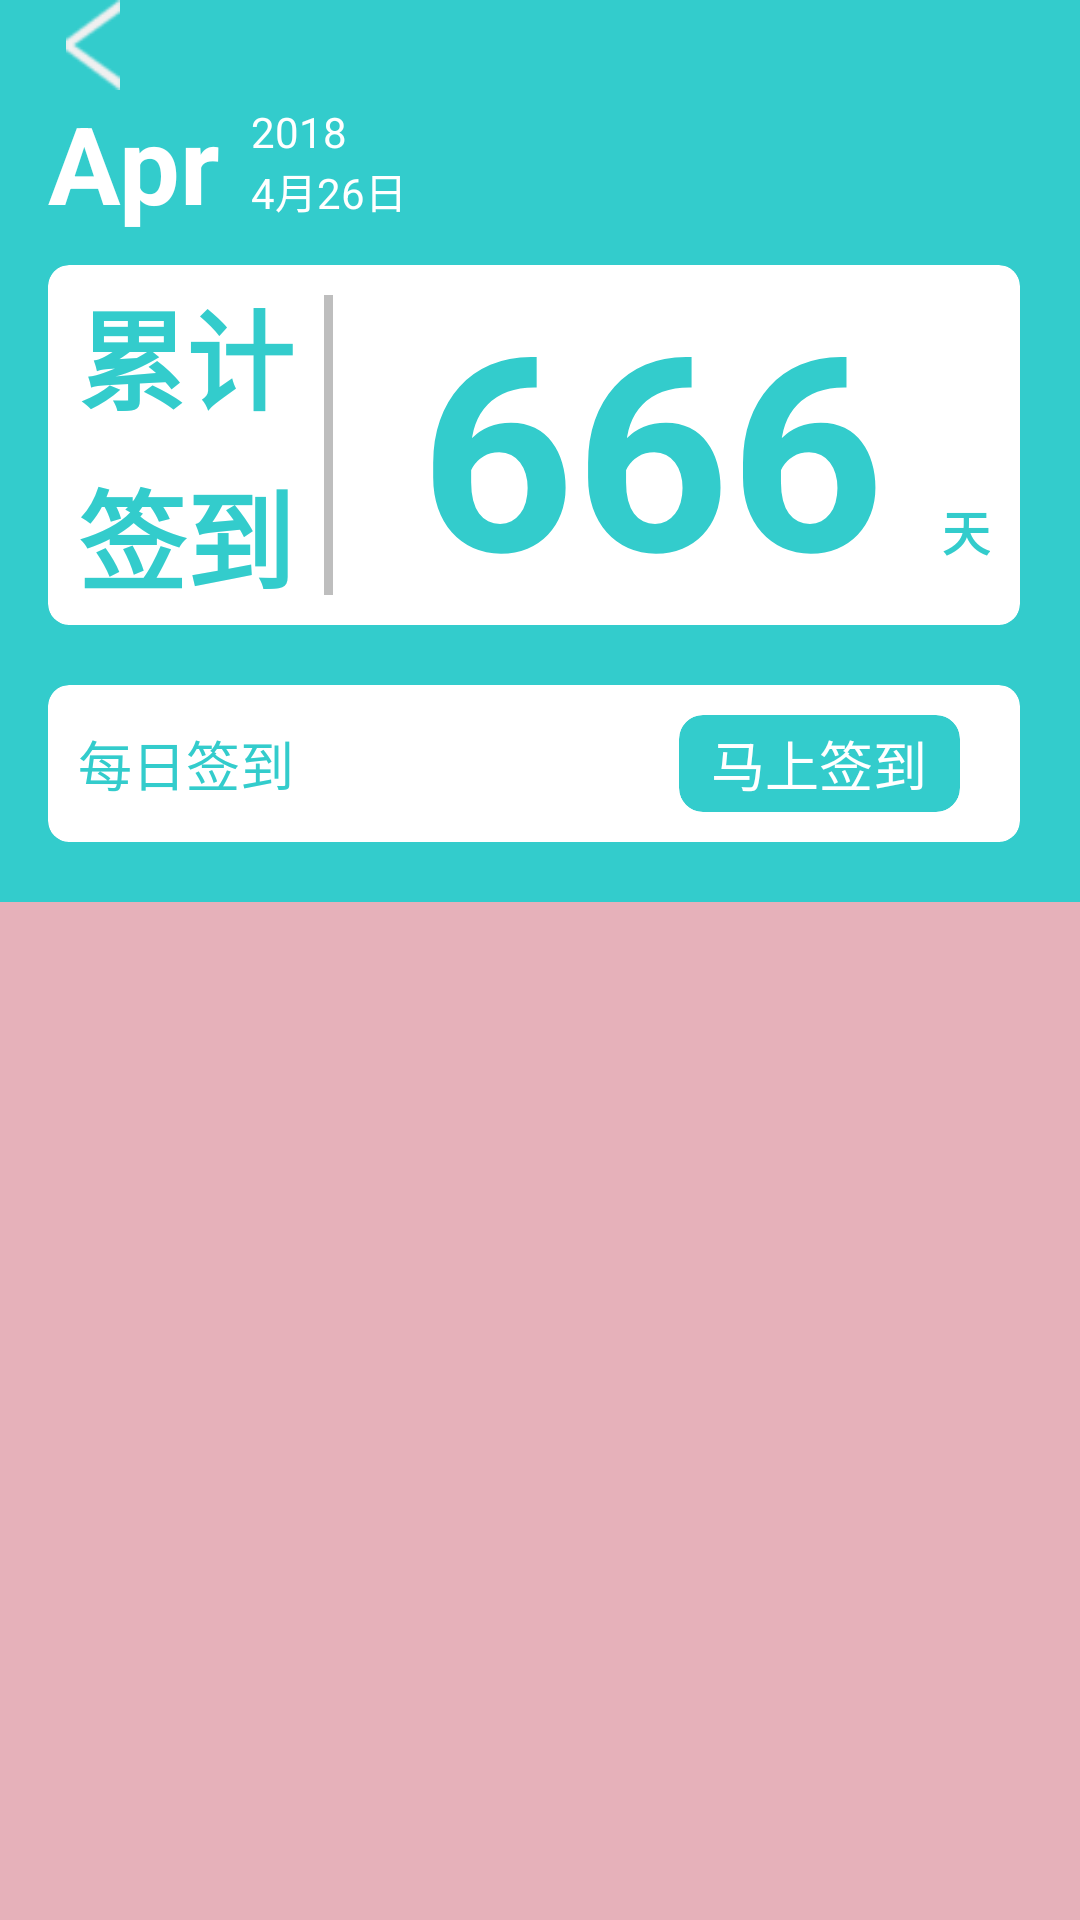

Point at icon controls on the screen. Image size 1080px x 1920px, points as point (x, y).
return bar: point (93, 45)
